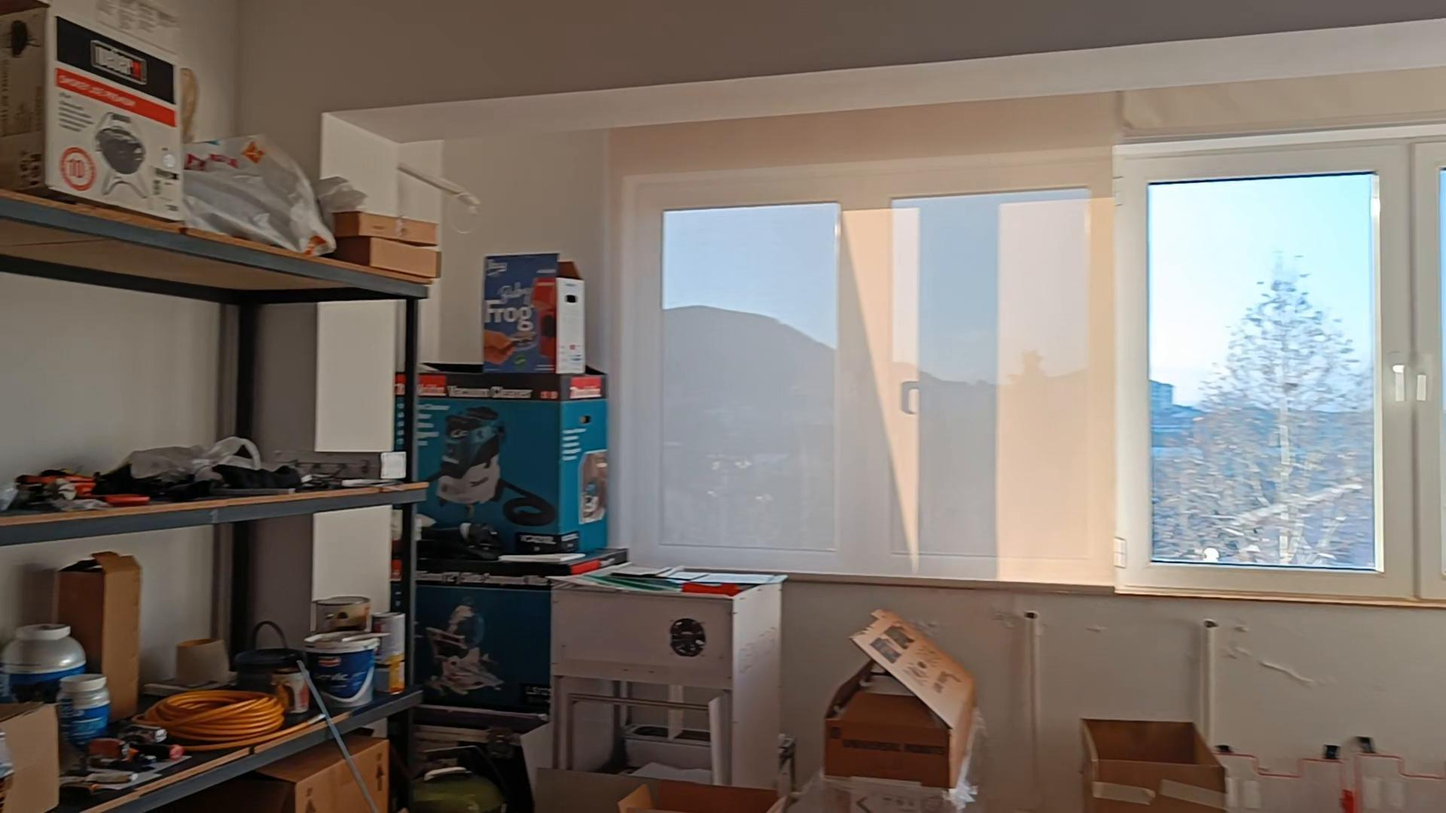wall: (197, 0, 1445, 356), (970, 598, 1430, 738), (1, 289, 213, 470)
